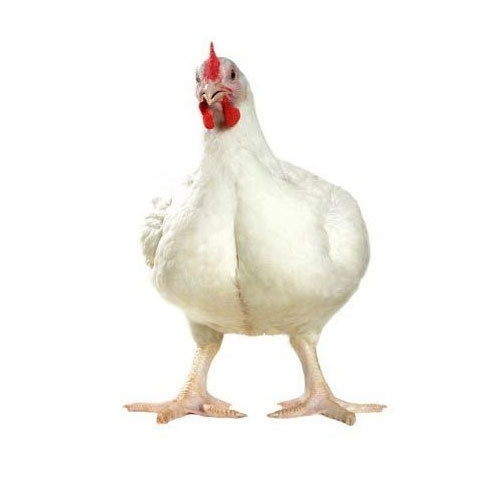Healthy: (118, 25, 394, 437)
